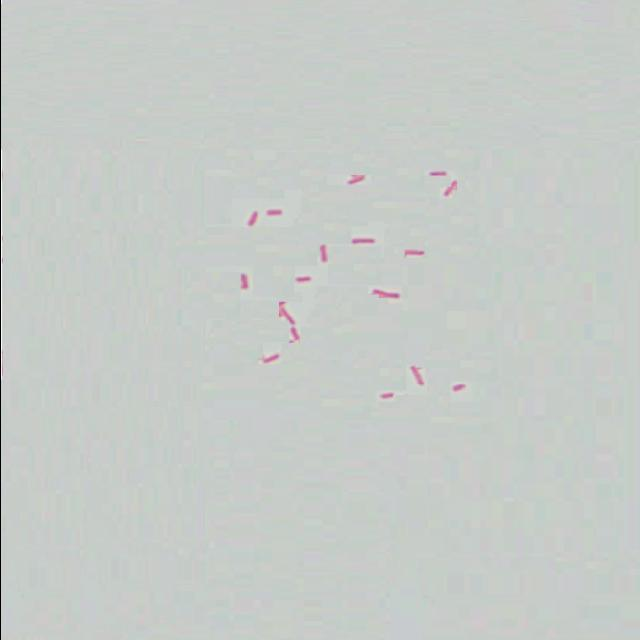E-coli: (367, 286, 404, 302), (408, 363, 431, 387), (398, 246, 430, 261), (236, 267, 254, 293), (345, 234, 379, 246), (278, 303, 298, 323), (346, 171, 369, 187), (316, 242, 332, 264), (443, 180, 459, 202), (257, 353, 283, 365), (422, 168, 452, 178), (245, 210, 261, 228), (285, 329, 305, 343), (291, 275, 319, 285), (447, 381, 469, 392), (372, 391, 400, 399), (267, 209, 289, 217)
